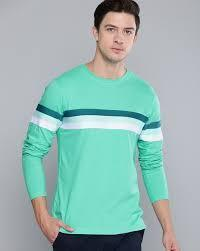Tshirt: (21, 62, 170, 236)
